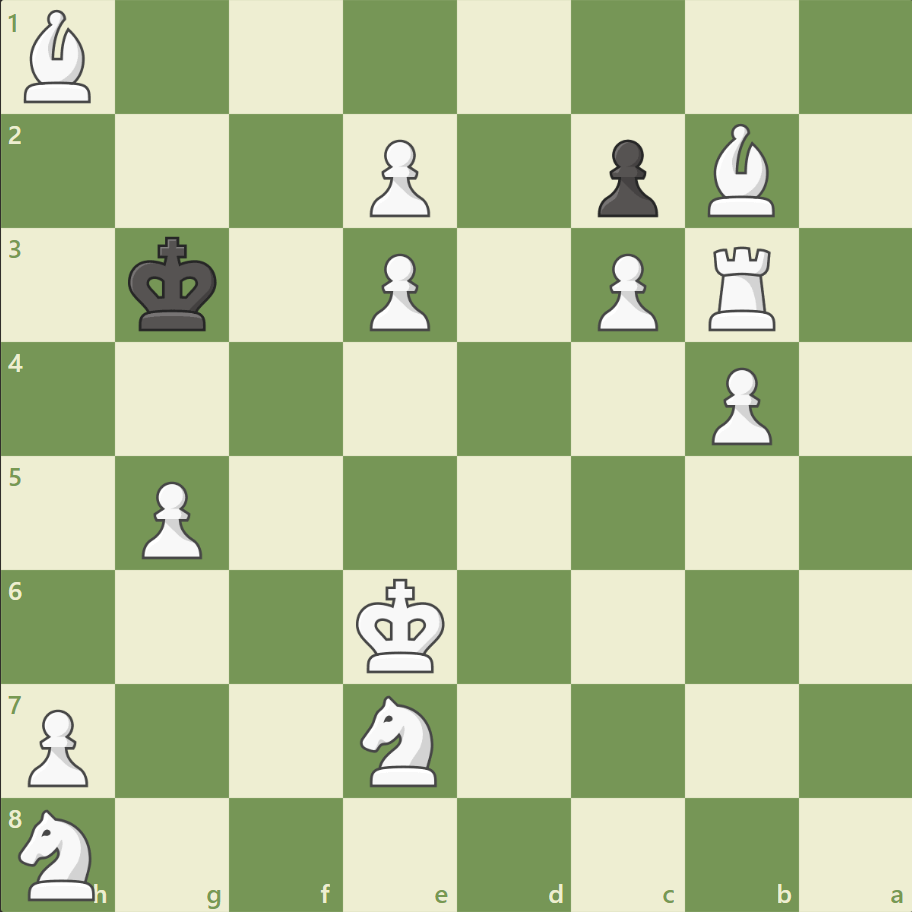B: (17, 6, 101, 109), (698, 120, 782, 222)
K: (351, 571, 451, 679)
N: (351, 688, 449, 791), (11, 802, 108, 904)
P: (20, 700, 95, 791), (133, 473, 208, 564), (701, 359, 776, 450), (588, 246, 662, 337), (361, 246, 435, 337), (361, 132, 435, 223)
R: (700, 239, 783, 336)
k: (124, 231, 224, 339)
p: (588, 132, 662, 223)
